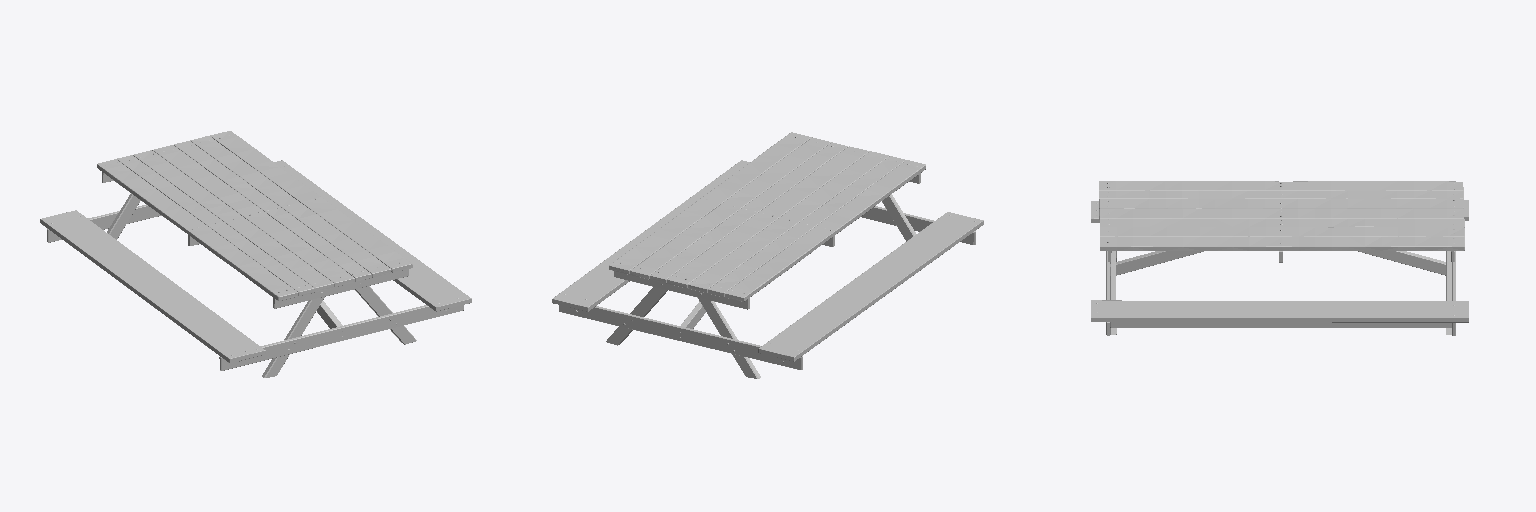
3 renders of one model, left to right at view 1: azimuth 30°, elevation 25°; view 2: azimuth 150°, elevation 25°; view 3: azimuth 270°, elevation 25°, orthographic.
Visible parts, largest first — view 1: wooden_picnic_table; view 2: wooden_picnic_table; view 3: wooden_picnic_table.
Part boxes in pixels (x1,y1,x2,y2): wooden_picnic_table: (40,131,471,377); wooden_picnic_table: (552,132,983,378); wooden_picnic_table: (1091,181,1468,335).
Size of the model in its own units: 2.24 by 0.746 by 3.02.